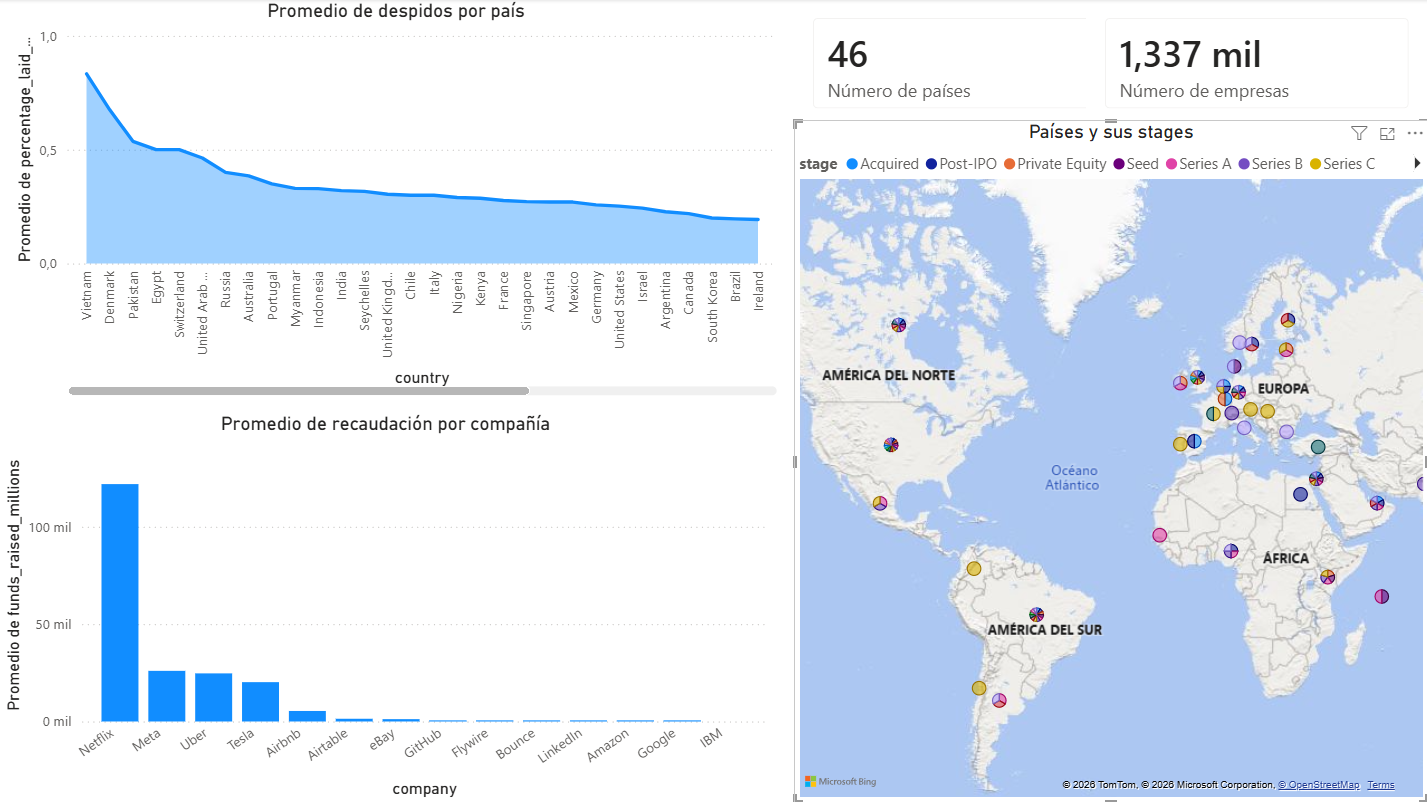

The dashboard page shown, as its layout file describes it:
{"tool":"powerbi","page":{"name":"Página 1","canvas":[1280,720],"ordinal":0},"visuals":[{"type":"areaChart","title":"Promedio de despidos por país","fields":{"Category":["Table1.country"],"Y":["Avg(Table1.percentage_laid_off)"]},"box":[9.7,0,691.6,359.9],"z":0},{"type":"clusteredColumnChart","title":"Promedio de facturación por compañía","fields":{"Category":["Table1.company"],"Y":["Avg(Table1.funds_raised_millions)"]},"box":[0,369.6,692.5,350.2],"z":1000},{"type":"cardVisual","fields":{"Data":["Count(Table1.country)"]},"box":[712,0,284,115.7],"z":2000},{"type":"cardVisual","fields":{"Data":["Count(Table1.company)"]},"box":[973.6,0,306.4,115.7],"z":3000},{"type":"map","title":"Países y sus stages","fields":{"Category":["Table1.country"],"Series":["Table1.stage"]},"box":[712,108,568,611.8],"z":4000}]}

Visuals, with their boxes in screenshot pixels (x1, y1, x2, y2), scaled from the page's 1280x720 canvas onto the 1427x802 screenshot:
"Promedio de despidos por país" areaChart: region(11, 0, 782, 401)
"Promedio de facturación por compañía" clusteredColumnChart: region(0, 412, 772, 801)
cardVisual - Count(Table1.country): region(794, 0, 1110, 129)
cardVisual - Count(Table1.company): region(1085, 0, 1426, 129)
"Países y sus stages" map: region(794, 120, 1426, 801)
